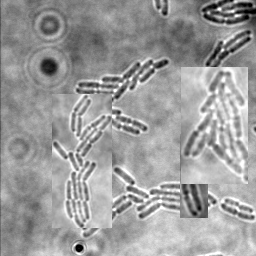Dividing: (219, 204, 255, 222), (223, 199, 253, 215)
Microcolony: (57, 167, 216, 238), (52, 94, 112, 228), (181, 67, 248, 184), (75, 59, 169, 136), (180, 134, 208, 218), (204, 30, 251, 72), (200, 1, 255, 26)
